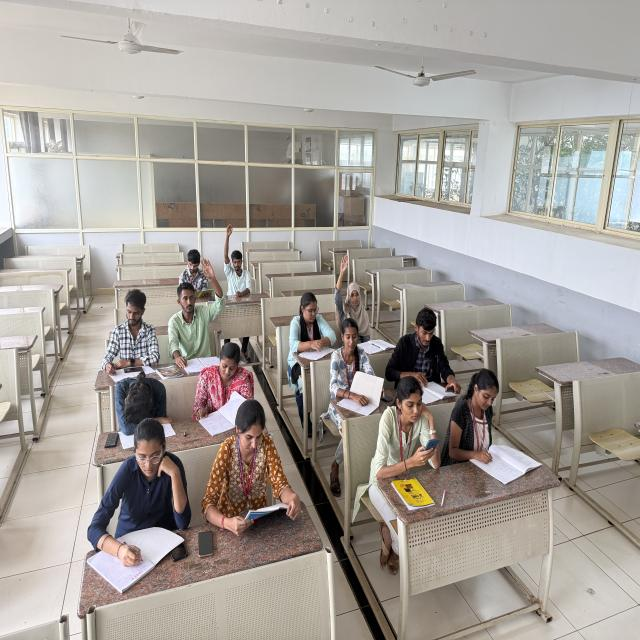Hand Rising: (163, 253, 224, 379), (327, 241, 378, 345), (217, 221, 261, 306)
Reading: (197, 389, 308, 543), (191, 334, 270, 446), (389, 304, 463, 408), (321, 316, 386, 427), (284, 289, 340, 372), (178, 246, 217, 300)
Sleeping: (104, 370, 184, 440)
Using Phone: (366, 373, 454, 518)
Writing: (86, 415, 194, 591), (441, 364, 542, 484), (100, 286, 160, 380)
